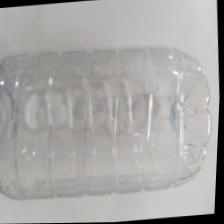plastic: (0, 46, 211, 198)
